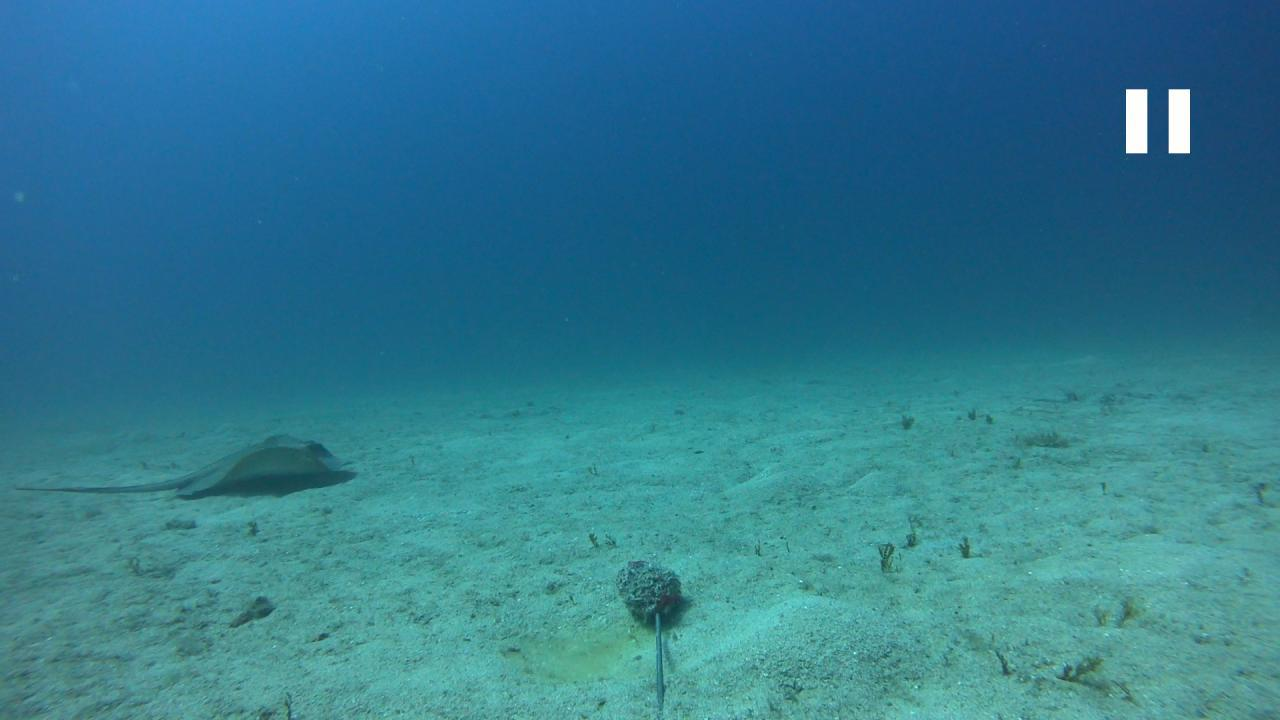dasyatis: (13, 432, 357, 498)
